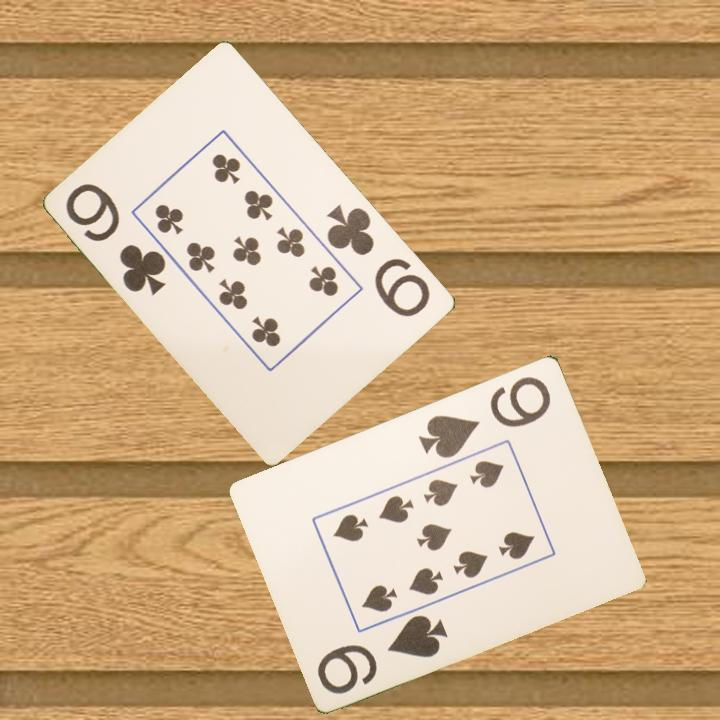9c: (323, 200, 434, 321), (62, 179, 170, 298)
9s: (415, 372, 554, 461), (313, 610, 452, 697)
